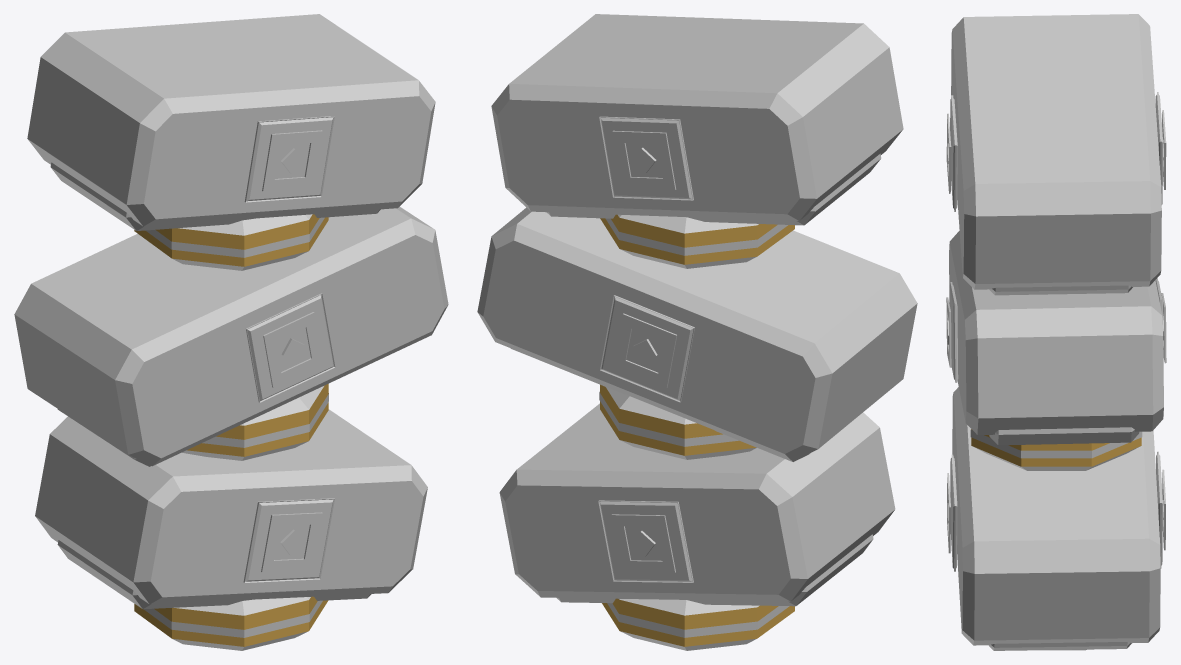
Rendered from wand_motion_04.obj.
The picture shows the model from 3 angles, left to right: view 1: azimuth 30°, elevation 25°; view 2: azimuth 150°, elevation 25°; view 3: azimuth 270°, elevation 25°; orthographic projection. The views are drawn at different scales.
Parts seen in each view (by area): view 1: chamfered_seal_tablet_2, chamfered_seal_tablet_1, chamfered_seal_tablet_0, tablet_spacer_2, tablet_spacer_0, inset_rune_socket_1, inset_rune_socket_5, inset_rune_socket_3, tablet_spacer_1, seal_shadow_base_0, seal_shadow_base_2, tablet_spacer_dark_seam_2 (+2 smaller); view 2: chamfered_seal_tablet_2, chamfered_seal_tablet_1, chamfered_seal_tablet_0, tablet_spacer_2, tablet_spacer_0, tablet_spacer_1, inset_rune_socket_2, inset_rune_socket_4, inset_rune_socket_0, seal_shadow_base_0, seal_shadow_base_2, tablet_spacer_dark_seam_2 (+2 smaller); view 3: chamfered_seal_tablet_2, chamfered_seal_tablet_0, chamfered_seal_tablet_1, tablet_spacer_1, seal_shadow_base_1, tablet_spacer_dark_seam_1, seal_shadow_base_2, seal_shadow_base_0, inset_rune_socket_5, inset_rune_socket_1, inset_rune_socket_3, inset_rune_socket_0 (+1 smaller).
Boxes of the visible parts, x1,y1,x2,y2 form: chamfered_seal_tablet_2: (27,14,435,226); chamfered_seal_tablet_1: (14,206,448,466); chamfered_seal_tablet_0: (35,409,427,604); tablet_spacer_2: (134,214,328,270); tablet_spacer_0: (134,596,328,650); inset_rune_socket_1: (243,498,334,582); inset_rune_socket_5: (244,116,334,202); inset_rune_socket_3: (246,293,335,402); tablet_spacer_1: (182,384,328,460); seal_shadow_base_0: (57,540,371,609); seal_shadow_base_2: (50,162,380,230); tablet_spacer_dark_seam_2: (146,217,324,257); chamfered_seal_tablet_2: (491,14,903,220); chamfered_seal_tablet_1: (477,207,917,461); chamfered_seal_tablet_0: (499,403,895,601); tablet_spacer_2: (600,214,794,268); tablet_spacer_0: (602,598,794,650); tablet_spacer_1: (600,384,756,459); inset_rune_socket_2: (600,295,694,402); inset_rune_socket_4: (599,116,693,200); inset_rune_socket_0: (598,500,693,582); seal_shadow_base_0: (556,534,873,606); seal_shadow_base_2: (547,153,881,225); tablet_spacer_dark_seam_2: (606,218,787,255); chamfered_seal_tablet_2: (951,14,1161,289); chamfered_seal_tablet_0: (952,387,1160,645); chamfered_seal_tablet_1: (949,231,1163,434); tablet_spacer_1: (971,429,1141,470); seal_shadow_base_1: (989,427,1139,445); tablet_spacer_dark_seam_1: (970,430,1142,458); seal_shadow_base_2: (989,285,1132,295); seal_shadow_base_0: (989,642,1131,650); inset_rune_socket_5: (950,95,957,211); inset_rune_socket_1: (950,454,957,571); inset_rune_socket_3: (949,282,958,382); inset_rune_socket_0: (1156,451,1162,568).
Size of the model in its own units: 0.1996 by 0.3165 by 0.1147.
